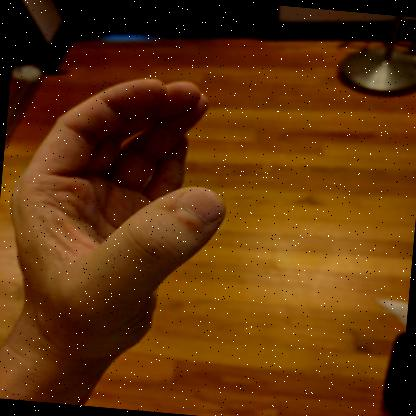C: (1, 78, 226, 356)
